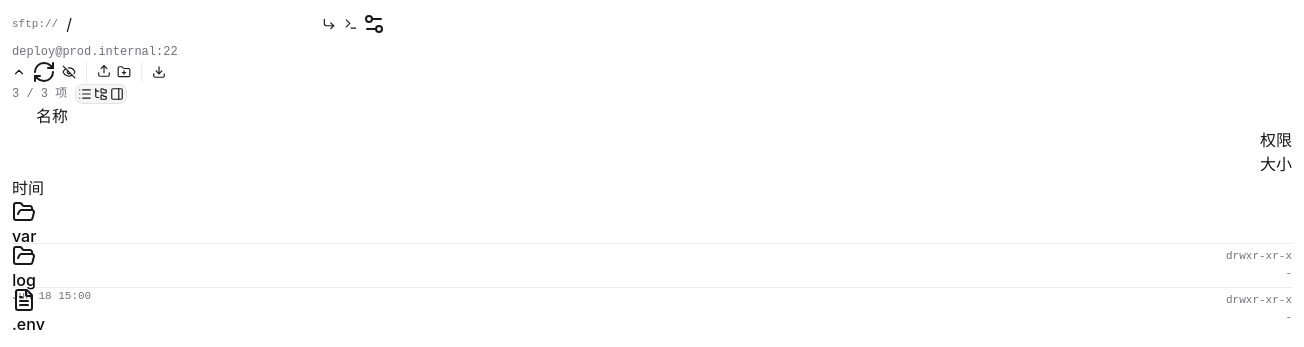
Test: SftpToolContent transfers and containers › does not offer ZIP archive download for remote directories in the context menu
Expected: the text "var" is shown, x1=12 y1=226 x2=36 y2=246
Right-click the button with aria-label "打开目录 var" at (24, 224), box x1=12 y1=200 x2=36 y2=248
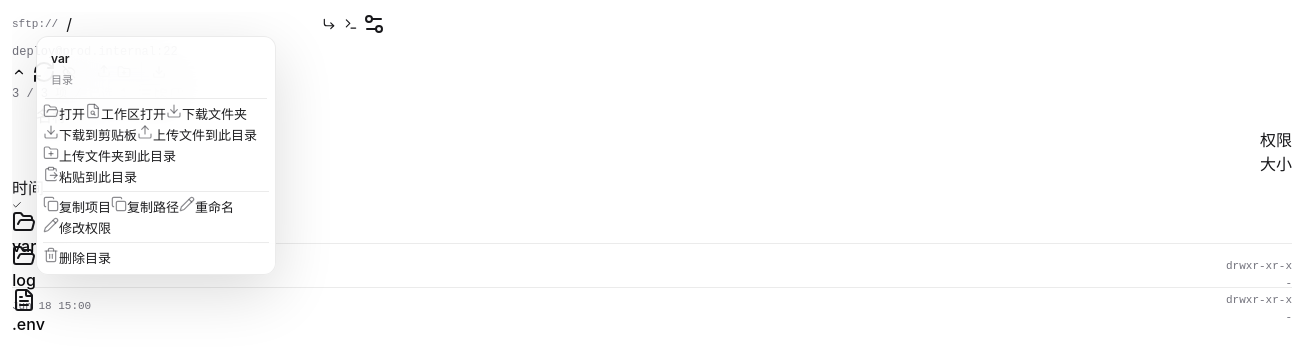
Now the menu item "下载到剪贴板" is shown, box x1=43 y1=124 x2=137 y2=145
